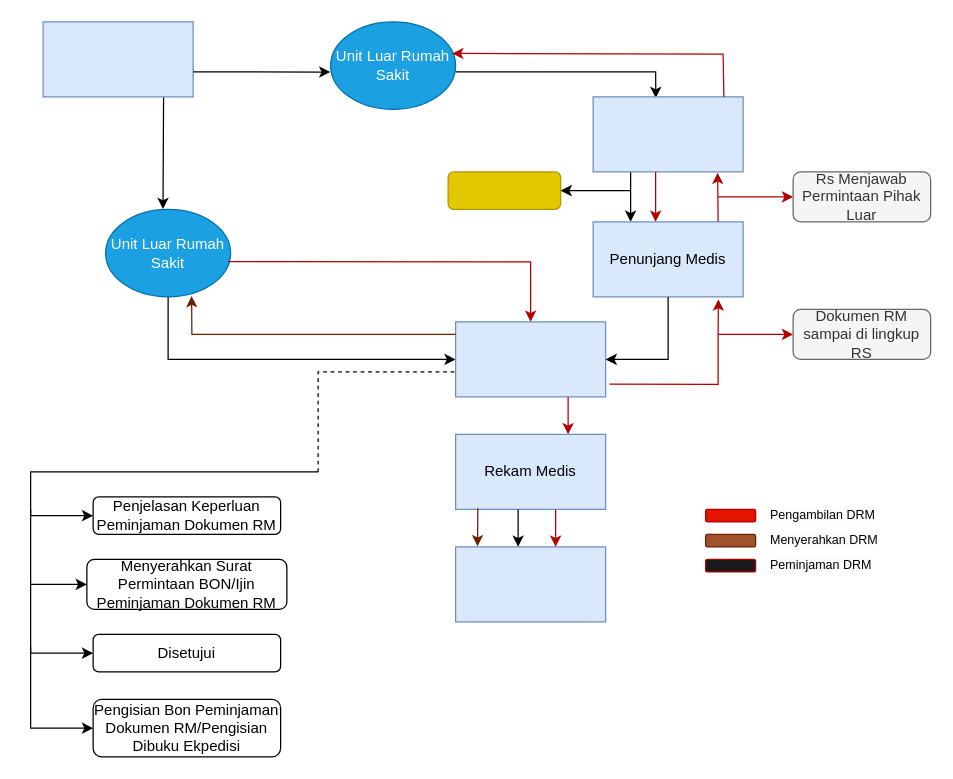
This 953x779 diagram has some shape labels left out. The centre of each missing label's shape, as x and y in pixels:
Direktur Rumah Sakit: pixel 667 134
Membuat surat permohonan: pixel 504 190
Pengembalian Dokumen Rekam Medis: pixel 530 359
Penyimpanan Rekam Medis/Filling: pixel 530 584
Unit Peminjam DRM: pixel 117 59
